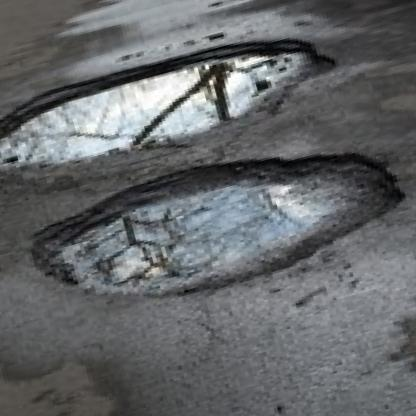pothole: (13, 112, 416, 334), (0, 9, 350, 214)
